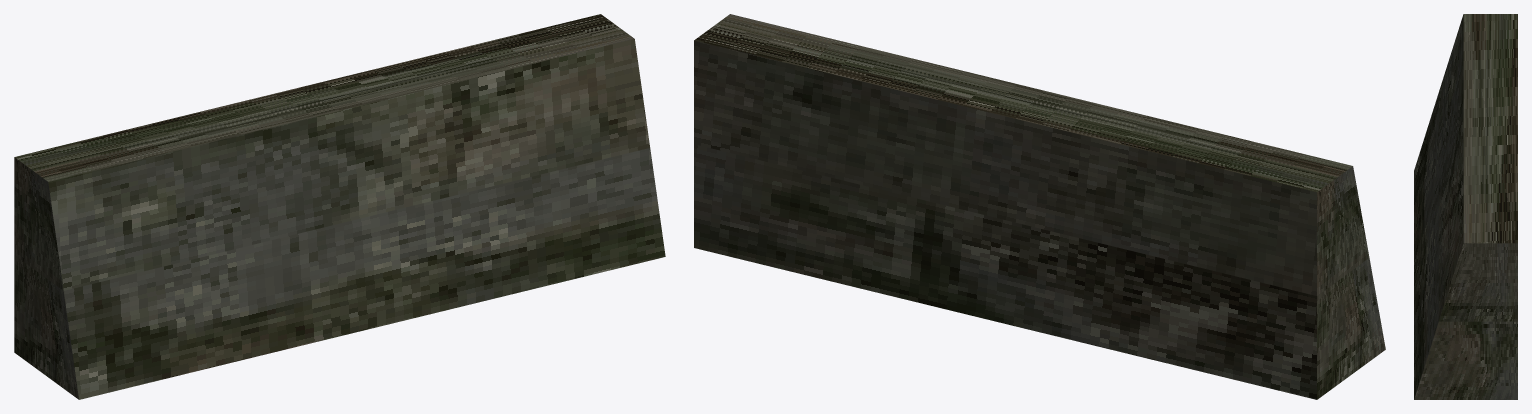
Rendered from tavern_foundation.glb.
3 renders of one model, left to right at view 1: azimuth 30°, elevation 25°; view 2: azimuth 150°, elevation 25°; view 3: azimuth 270°, elevation 25°, orthographic. The views are drawn at different scales.
Visible parts, largest first — view 1: tavern_foundation; view 2: tavern_foundation; view 3: tavern_foundation.
Part boxes in pixels (x1,y1,x2,y2): tavern_foundation: (14, 14, 665, 399); tavern_foundation: (694, 14, 1385, 399); tavern_foundation: (1414, 14, 1517, 399).
Bounding box in the file's own units: 3 × 0.9538 × 0.5728.
Materials: 1 (1 with a texture image).
